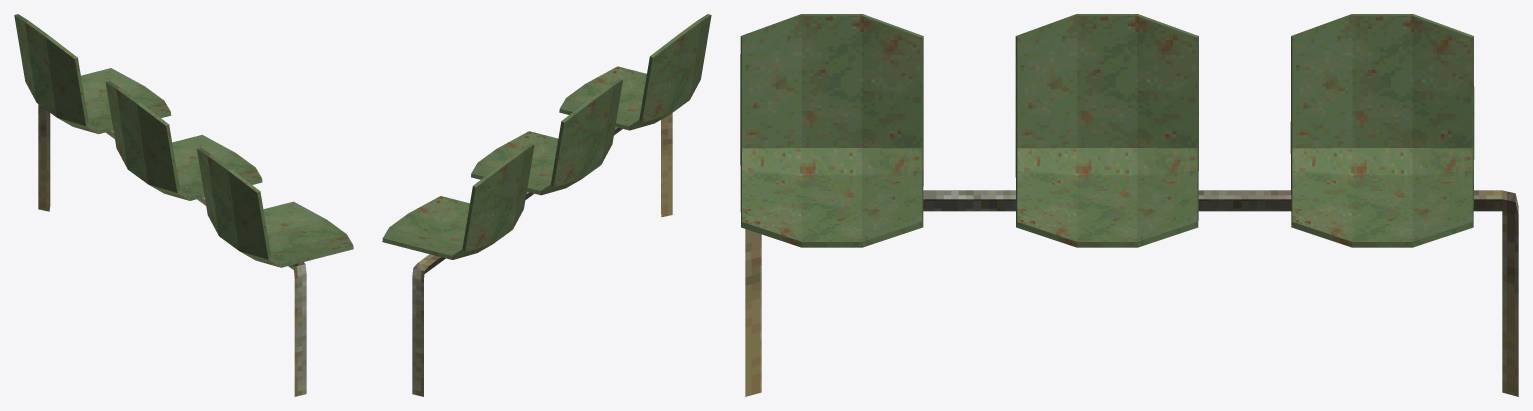
The model's file is busstop_three_seats_alt.glb.
The picture shows the model from 3 angles, left to right: view 1: azimuth 30°, elevation 25°; view 2: azimuth 150°, elevation 25°; view 3: azimuth 270°, elevation 25°; orthographic projection. The views are drawn at different scales.
Visible parts, largest first — view 1: busstop_three_seats_alt; view 2: busstop_three_seats_alt; view 3: busstop_three_seats_alt.
Boxes of the visible parts, x1,y1,x2,y2 form: busstop_three_seats_alt: (14, 14, 353, 396); busstop_three_seats_alt: (382, 14, 711, 396); busstop_three_seats_alt: (740, 14, 1518, 396).
Size of the model in its own units: 0.692 by 1.25 by 2.6.
1 material, 1 textured.
